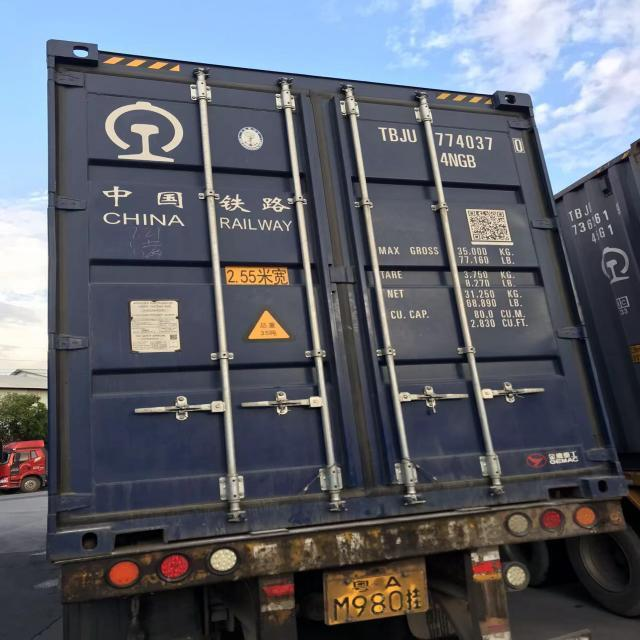ISO: (441, 152, 478, 170)
container_number: (376, 124, 530, 152)
